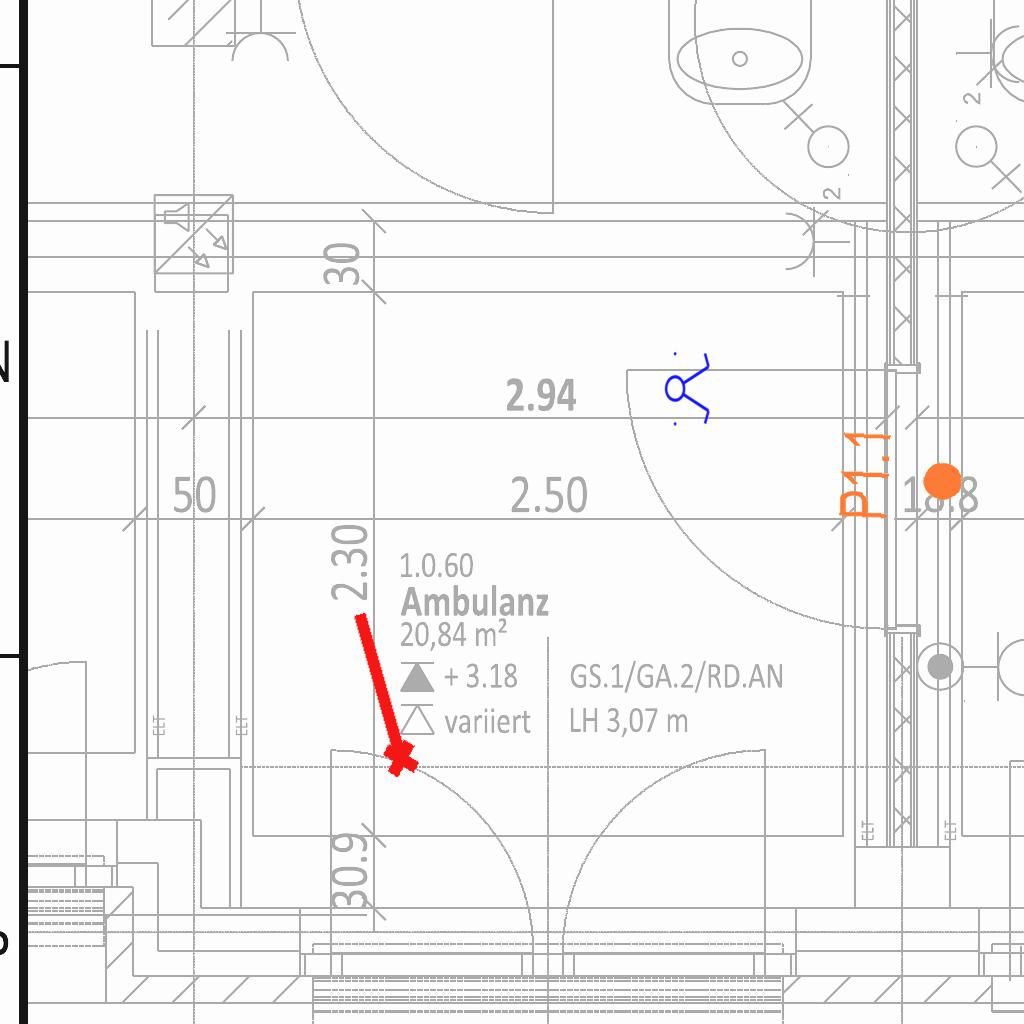ASR_Ansaugoeffnung: (333, 603, 427, 785)
Downlight_LED_Einbauleuchten_Flur: (835, 426, 968, 526)
Serienschalter: (664, 346, 712, 430)
